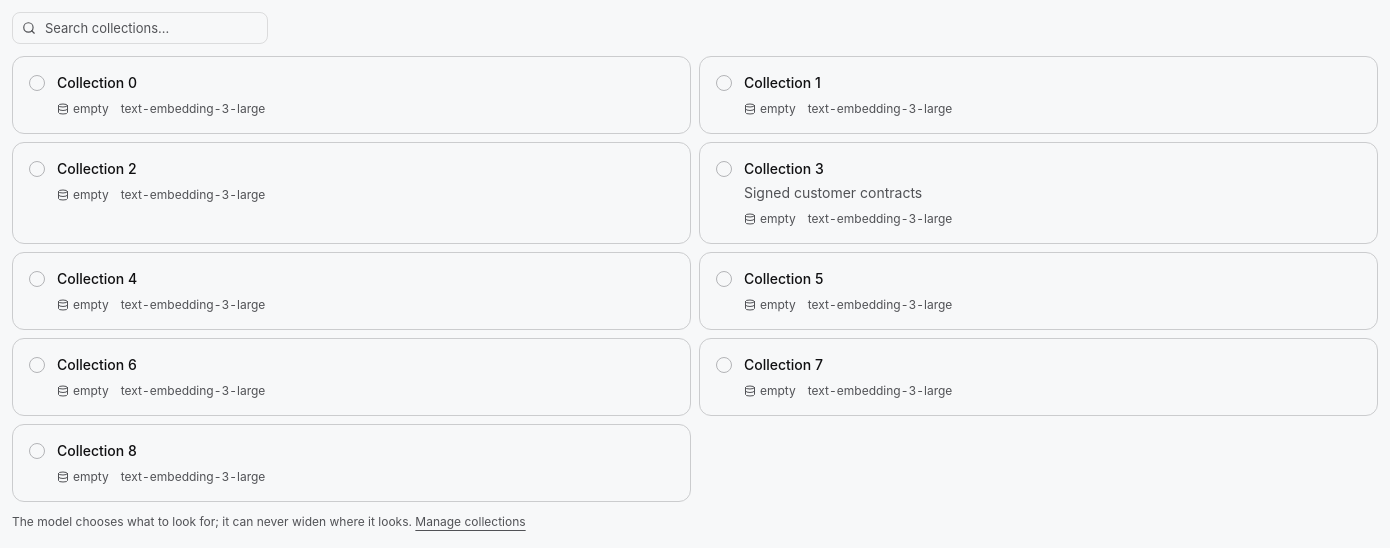
Scenario: the collection picker › searches the description too, which is where the useful words are
The image size is (1390, 548).
Type "signed" into the field labelled "Search collections…". click: (140, 28)
box: [12, 12, 268, 44]
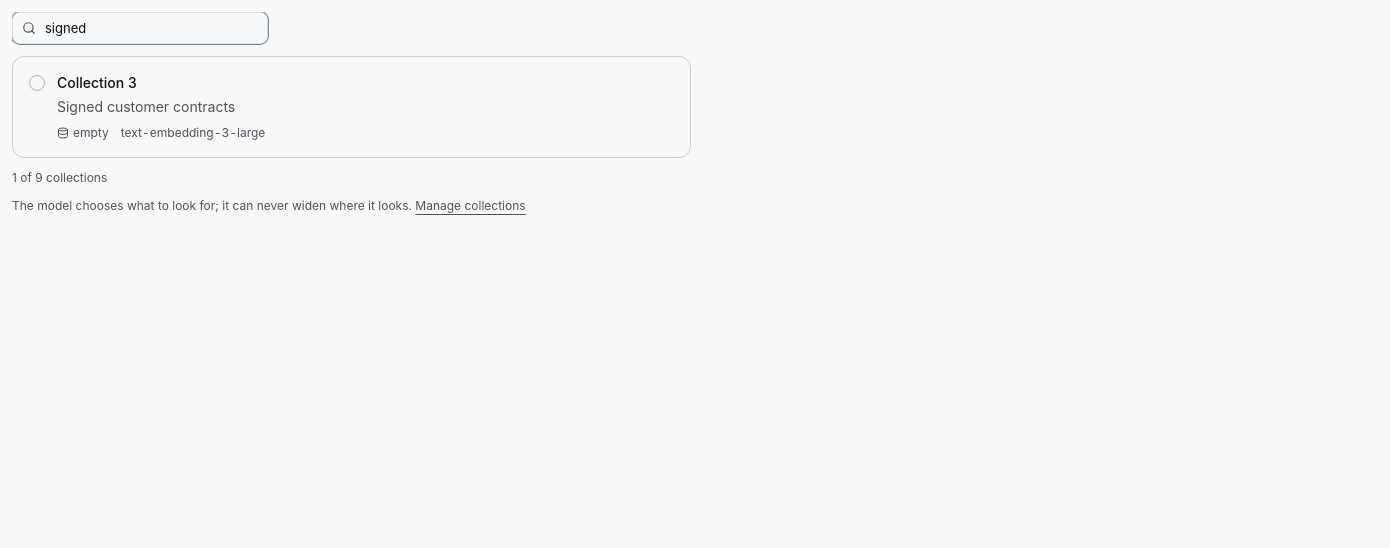
Expected: the checkbox labelled "Collection 3" is shown, [12, 56, 691, 158]
Expected: the checkbox labelled "Collection 0" is gone
